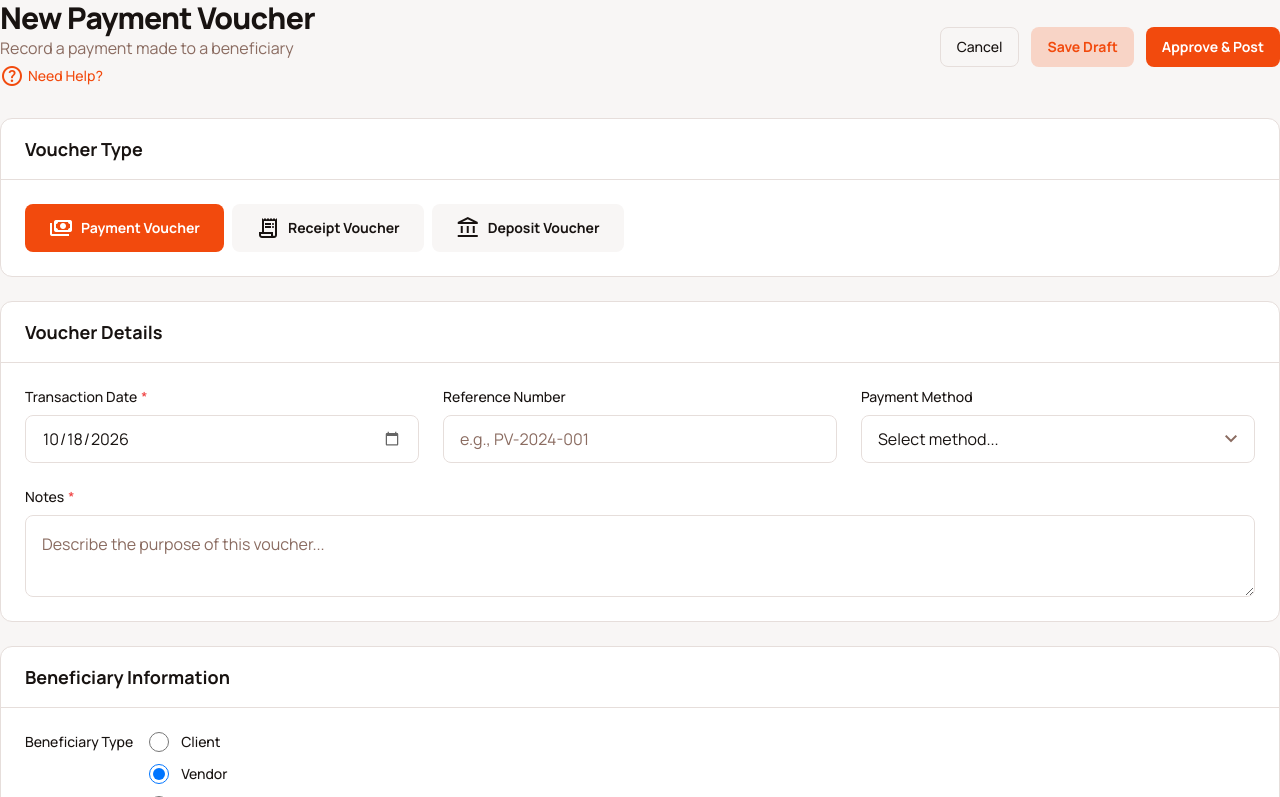
Test: VoucherFormPage payload › blocks an empty payment with the required-field messages and sends nothing
The image size is (1280, 797).
Click the button with test id "voucher-form-save-draft-button" at (1083, 47), box [1031,27,1134,67]
(page scrolled)
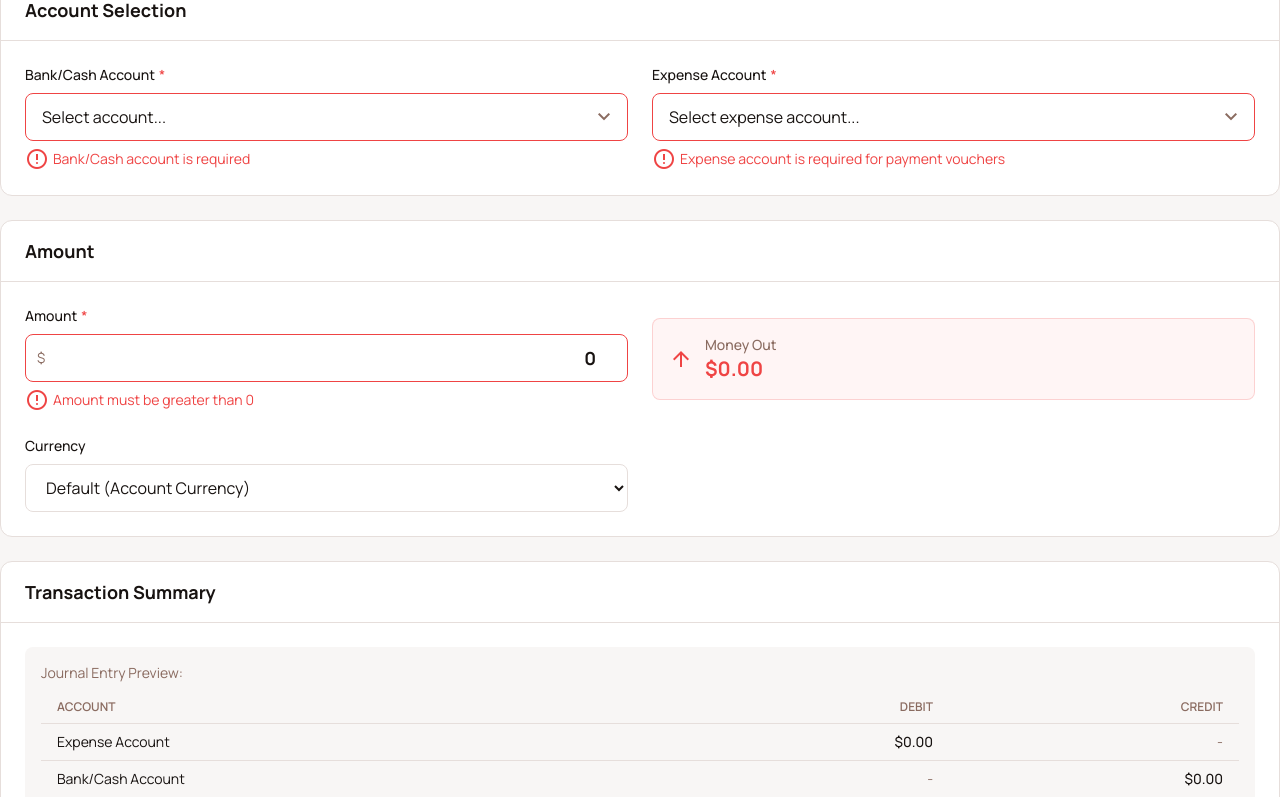
Now the text "Bank/Cash account is required" is shown, box [25,145,250,173]
Now the text "Expense account is required for payment vouchers" is shown, box [652,145,1005,173]
Now the text "Amount must be greater than 0" is shown, box [25,386,254,414]
